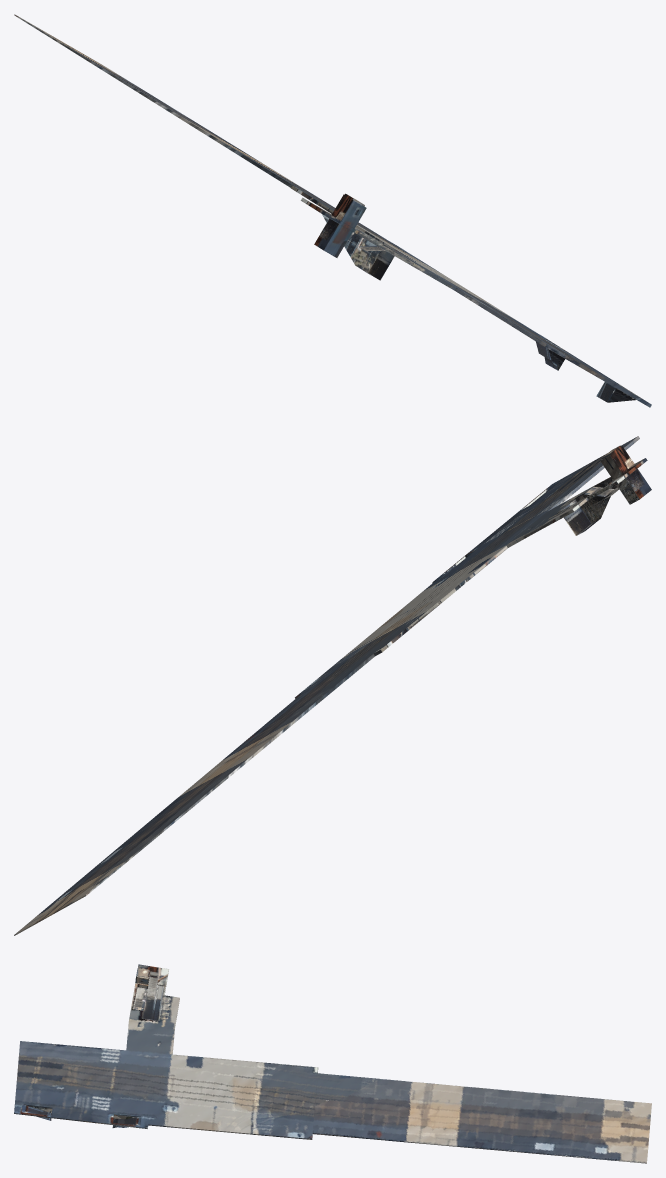
The picture shows the model from 3 angles, top to bottom: view 1: azimuth 30°, elevation 25°; view 2: azimuth 150°, elevation 25°; view 3: azimuth 270°, elevation 25°; orthographic projection. The views are drawn at different scales.
Parts seen in each view (by area): view 1: BAG_0599100000638397 (×4); view 2: BAG_0599100000638397 (×4); view 3: BAG_0599100000638397 (×5).
Part boxes in pixels (x1,y1,x2,y2): BAG_0599100000638397 (×4): [14, 14, 651, 407]; BAG_0599100000638397 (×4): [14, 436, 651, 935]; BAG_0599100000638397 (×5): [14, 964, 651, 1163].
Bounding box in the file's own units: 39.07 × 39.52 × 163.
Materials: 7 (7 with a texture image).
